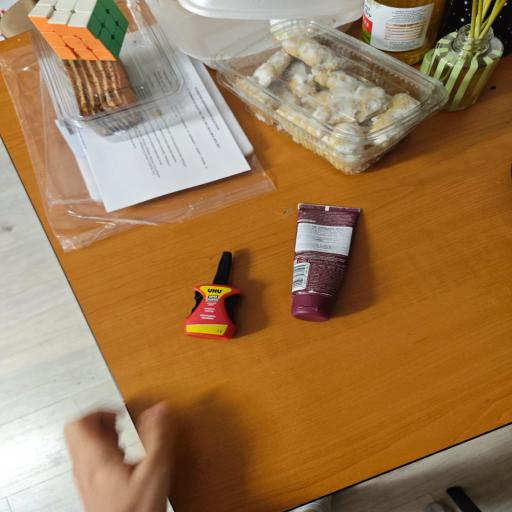Crema Maini: (289, 202, 363, 321)
Rubiks Cube: (19, 0, 129, 62)
Super Glue: (179, 250, 246, 340)
